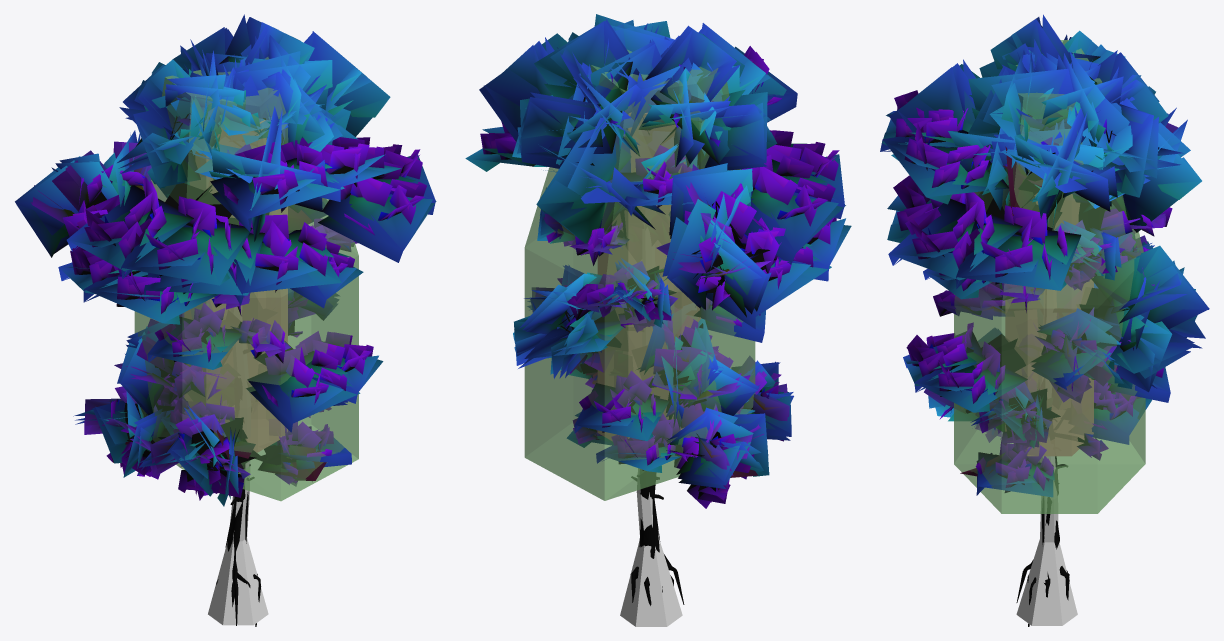
Rendered from scots_pine.dae.
3 renders of one model, left to right at view 1: azimuth 30°, elevation 25°; view 2: azimuth 150°, elevation 25°; view 3: azimuth 270°, elevation 25°, orthographic. The views are drawn at different scales.
Parts seen in each view (by area): view 1: scots_pine_tall_a1800, scots_pine_tall_a650, Colmesh-1; view 2: scots_pine_tall_a1800, scots_pine_tall_a650, Colmesh-1; view 3: scots_pine_tall_a1800, scots_pine_tall_a650, Colmesh-1.
Part boxes in pixels (x1=…): scots_pine_tall_a1800: x1=15, y1=14, x2=436, y2=626; scots_pine_tall_a650: x1=15, y1=17, x2=435, y2=611; Colmesh-1: x1=134, y1=57, x2=358, y2=625; scots_pine_tall_a1800: x1=465, y1=14, x2=851, y2=605; scots_pine_tall_a650: x1=466, y1=14, x2=850, y2=602; Colmesh-1: x1=524, y1=50, x2=755, y2=626; scots_pine_tall_a1800: x1=882, y1=14, x2=1208, y2=626; scots_pine_tall_a650: x1=880, y1=19, x2=1209, y2=601; Colmesh-1: x1=954, y1=40, x2=1145, y2=625.
Bounding box in the file's own units: 11.62 × 9.59 × 18.91.
